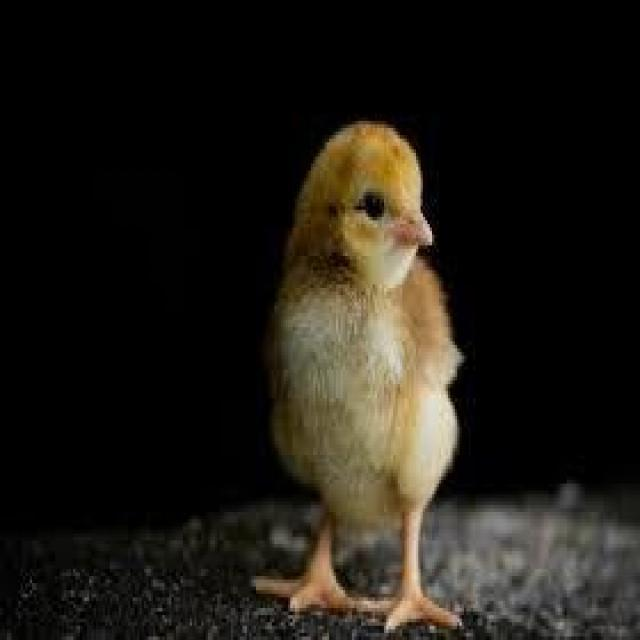poussin: (248, 121, 470, 630)
